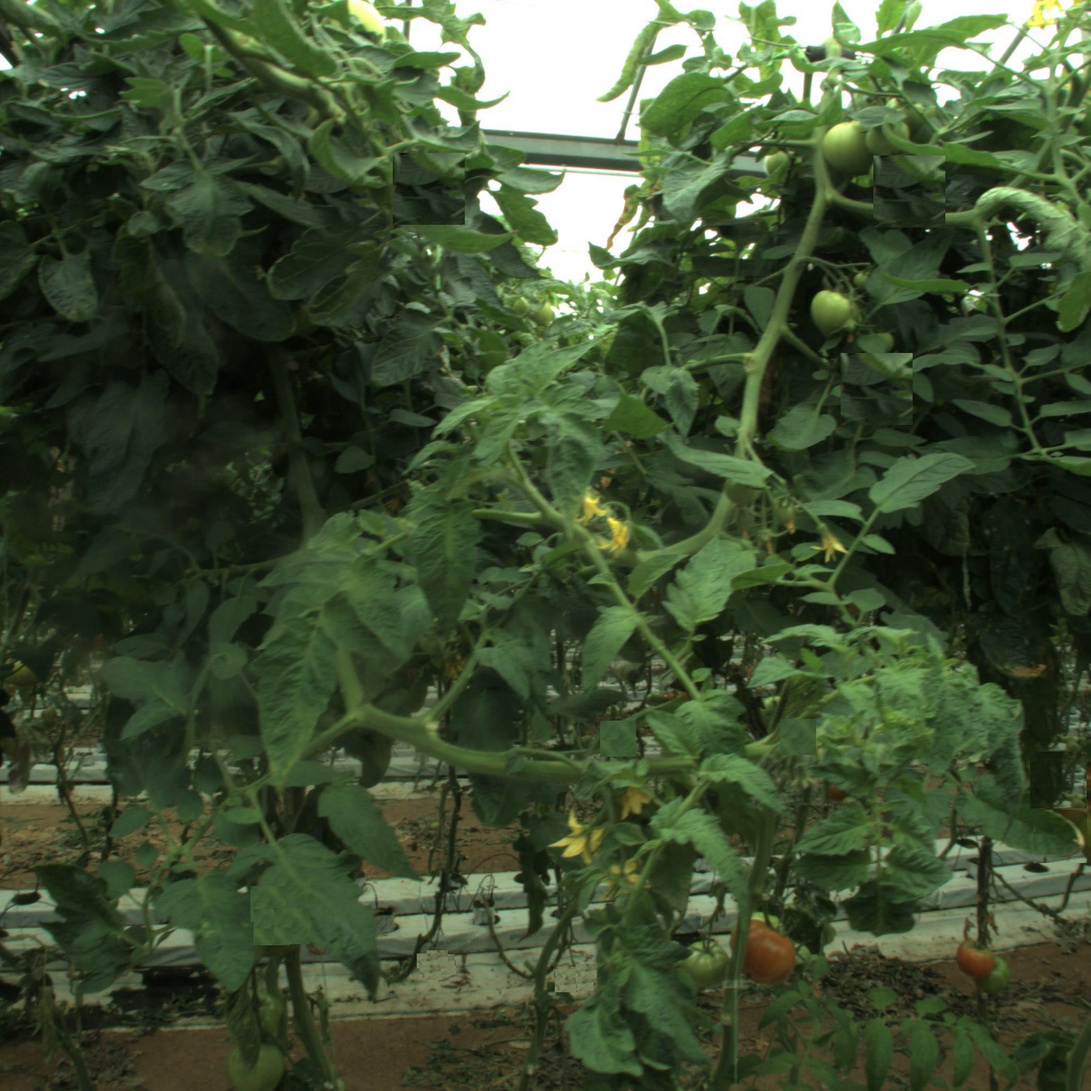fully-ripe: (730, 912, 799, 981), (955, 938, 997, 980)
unripe: (820, 118, 874, 172), (806, 289, 856, 339), (231, 1041, 279, 1089), (682, 939, 727, 984)
